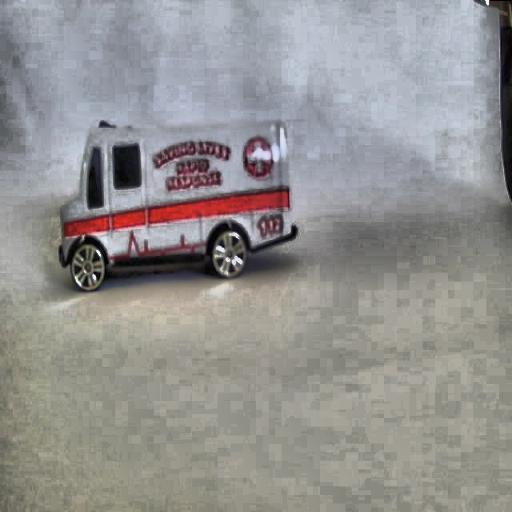ambulance: (58, 118, 296, 292)
